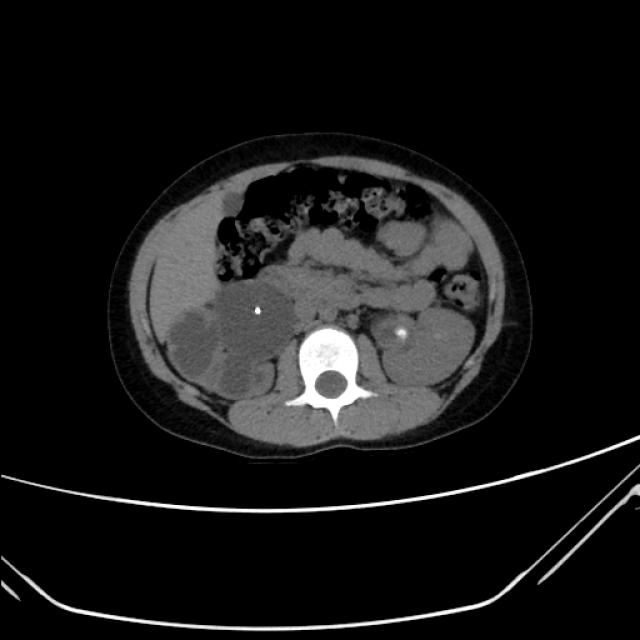kidney: (372, 302, 476, 389), (213, 282, 299, 362)
stone: (396, 324, 412, 342), (253, 304, 264, 318)
